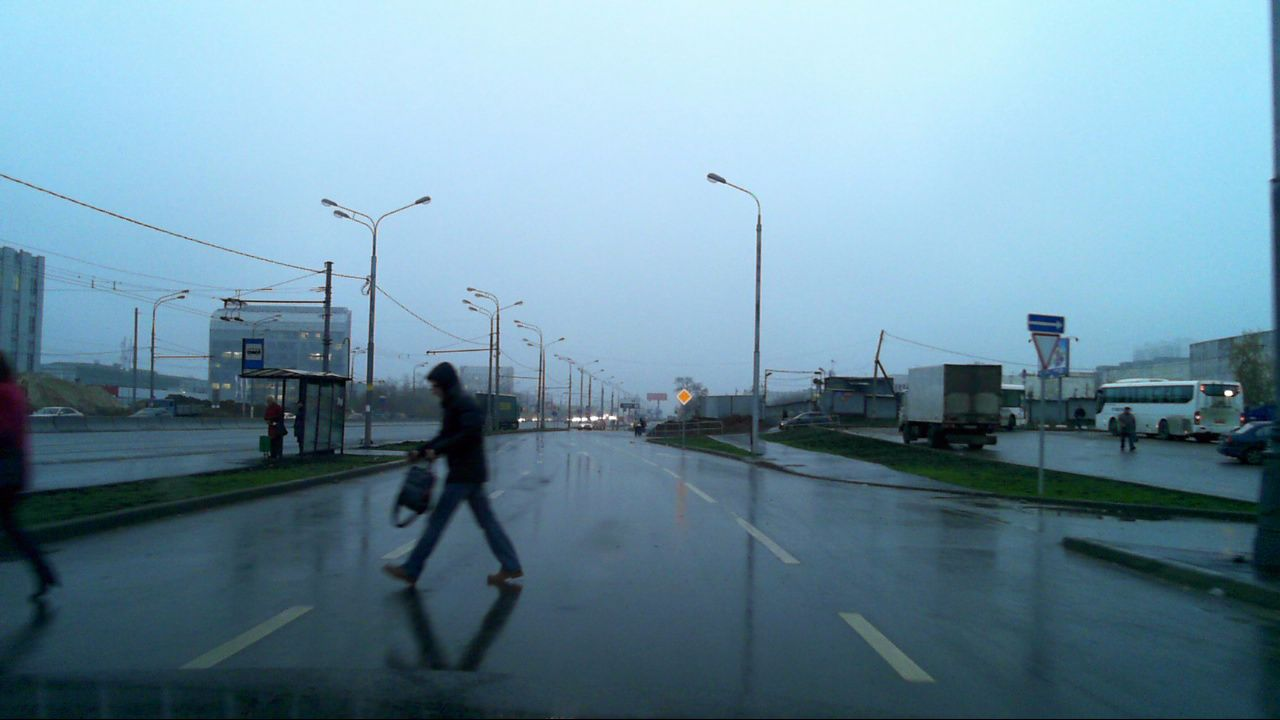One-Way Traffic: (1028, 314, 1065, 333)
